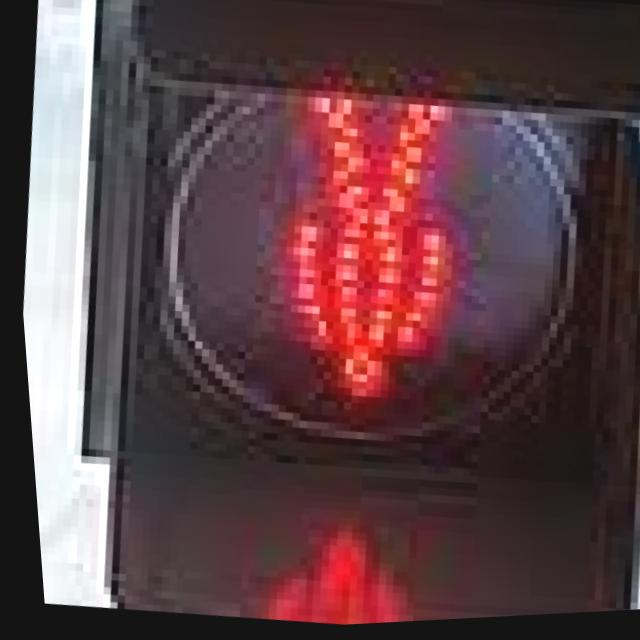red_light: (205, 63, 507, 460)
